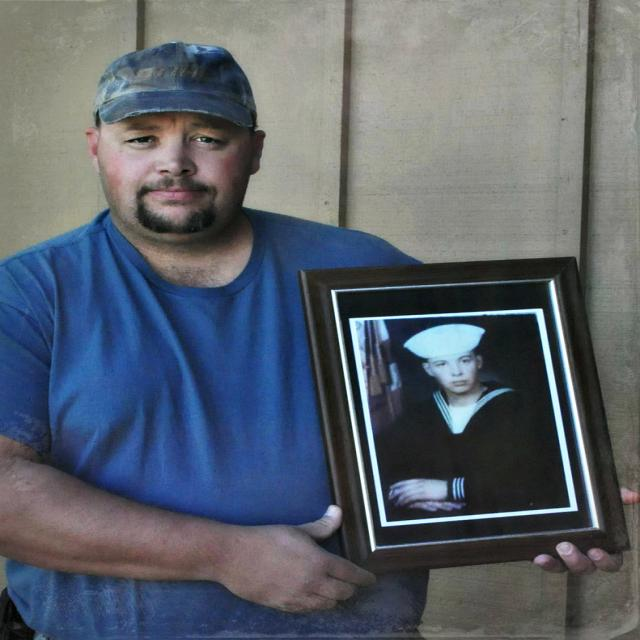Hat: (95, 44, 257, 126)
